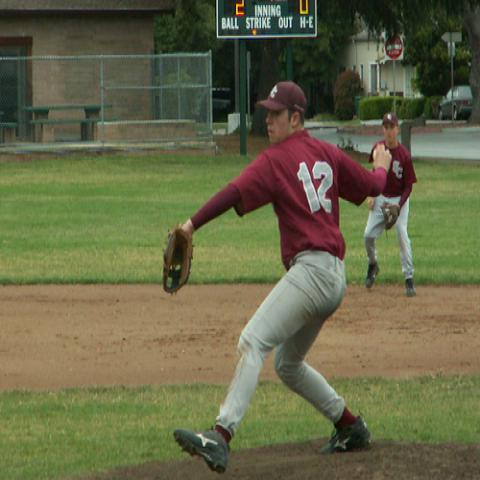car: (438, 86, 473, 120), (212, 85, 230, 118)
